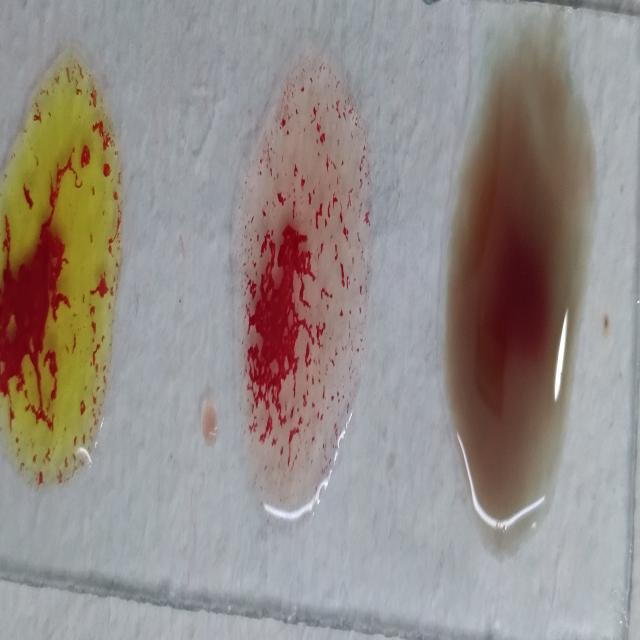B: (2, 54, 121, 488)
D: (233, 58, 373, 527)
